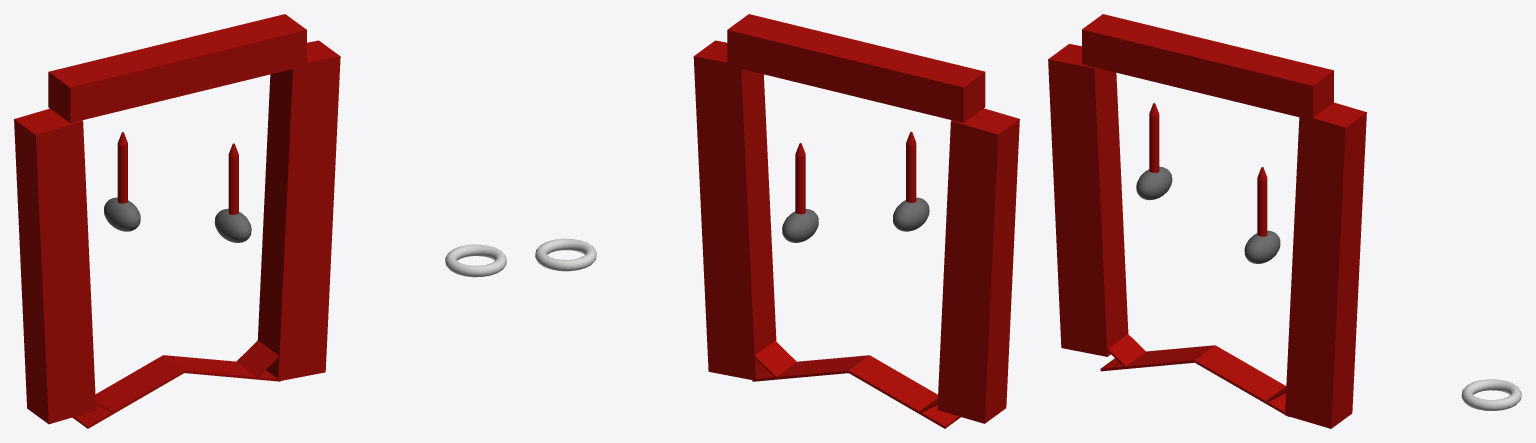
The model's file is toyCollidersAndRing.dae.
3 renders of one model, left to right at view 1: azimuth 30°, elevation 25°; view 2: azimuth 150°, elevation 25°; view 3: azimuth 330°, elevation 25°, orthographic. The views are drawn at different scales.
Visible parts, largest first — view 1: rightBar, leftBar, topBar, bottomArch, gameRing, target1Base, target2Base, bottomRightBumper, target1Pole, target2Pole; view 2: rightBar, leftBar, topBar, bottomArch, gameRing, target2Base, target1Base, bottomRightBumper, target2Pole, target1Pole; view 3: rightBar, leftBar, topBar, bottomArch, gameRing, target2Base, target1Base, bottomLeftBumper, target1Pole, target2Pole.
Boxes of the visible parts, bbox=[...] form: rightBar: bbox=[258, 40, 340, 381]; leftBar: bbox=[14, 108, 96, 424]; topBar: bbox=[48, 14, 306, 123]; bottomArch: bbox=[72, 355, 280, 428]; gameRing: bbox=[445, 244, 506, 277]; target1Base: bbox=[104, 197, 140, 231]; target2Base: bbox=[214, 208, 251, 242]; bottomRightBumper: bbox=[236, 340, 278, 376]; target1Pole: bbox=[117, 144, 127, 203]; target2Pole: bbox=[228, 155, 238, 214]; rightBar: bbox=[693, 40, 776, 379]; leftBar: bbox=[937, 108, 1019, 423]; topBar: bbox=[727, 14, 985, 122]; bottomArch: bbox=[752, 355, 960, 428]; gameRing: bbox=[535, 238, 596, 271]; target2Base: bbox=[782, 209, 818, 242]; target1Base: bbox=[893, 197, 929, 231]; bottomRightBumper: bbox=[754, 340, 796, 376]; target2Pole: bbox=[795, 155, 805, 214]; target1Pole: bbox=[906, 144, 916, 202]; rightBar: bbox=[1285, 102, 1366, 428]; leftBar: bbox=[1048, 44, 1128, 356]; topBar: bbox=[1082, 14, 1333, 120]; bottomArch: bbox=[1100, 345, 1288, 416]; gameRing: bbox=[1461, 379, 1521, 410]; target2Base: bbox=[1244, 230, 1280, 263]; target1Base: bbox=[1136, 166, 1172, 200]; bottomLeftBumper: bbox=[1108, 334, 1145, 366]; target1Pole: bbox=[1149, 115, 1159, 172]; target2Pole: bbox=[1257, 179, 1267, 236].
Size of the model in its own units: 43.97 by 30.74 by 5.22.
